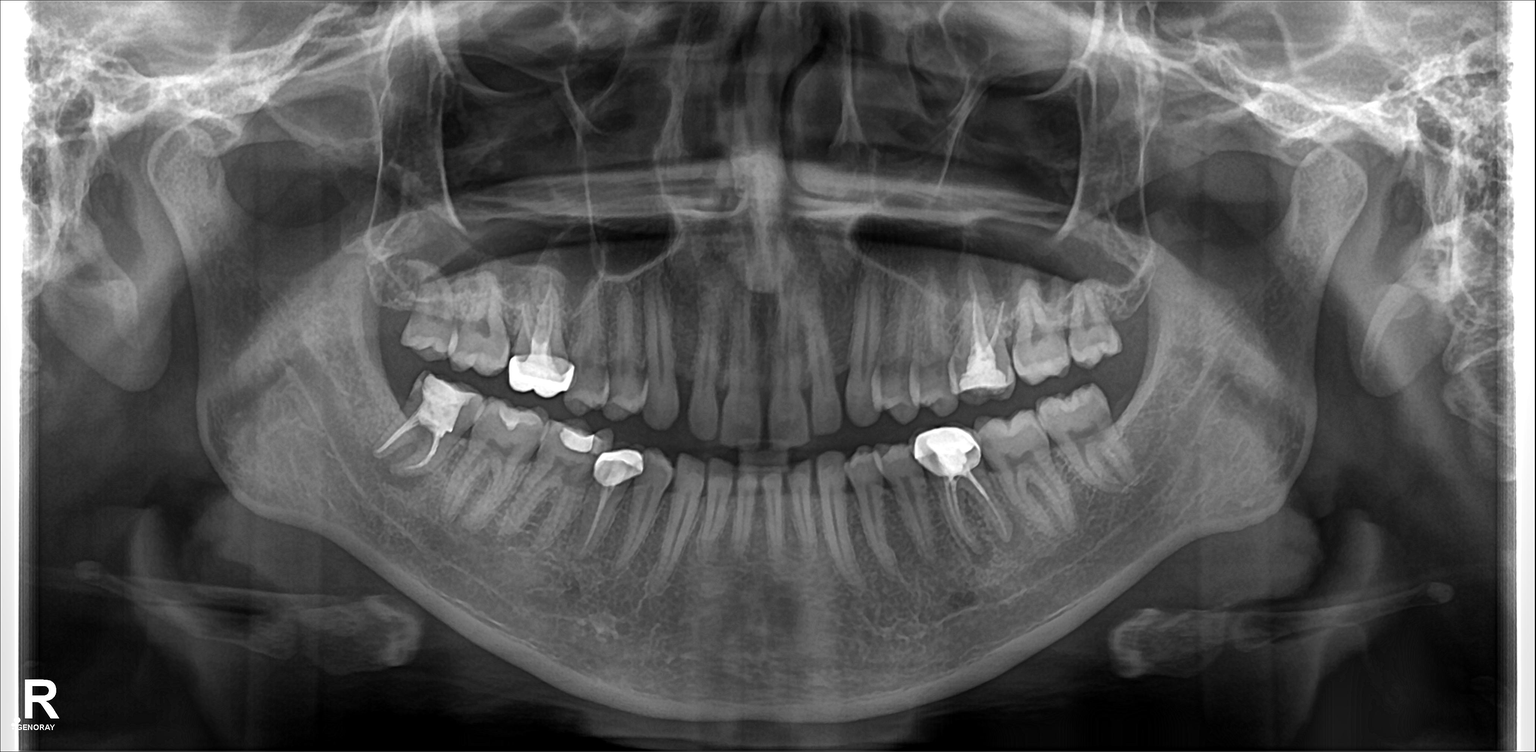Endodontically Treated Tooth: (507, 279, 575, 407), (926, 437, 994, 559), (955, 296, 1012, 399), (395, 382, 454, 478), (592, 447, 632, 551)
Missing Tooth: (369, 257, 414, 358)
